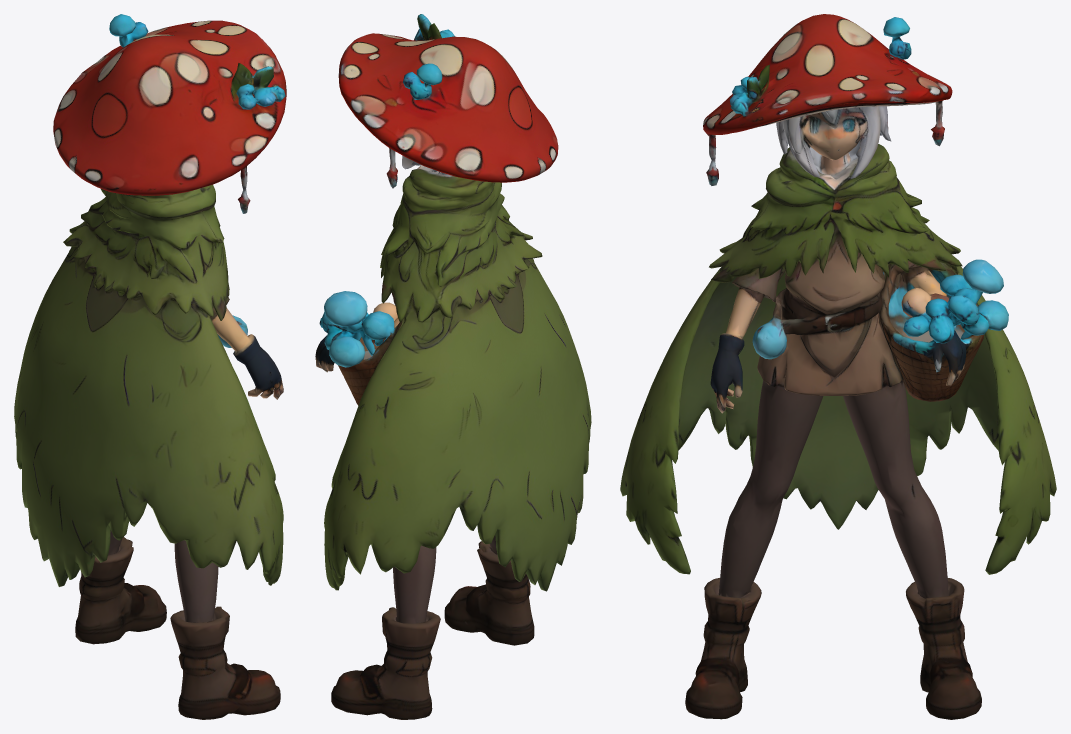
Rendered from r2_forager.b5e552d1.glb.
3 views of the same model, side by side, from view 1: azimuth 30°, elevation 25°; view 2: azimuth 150°, elevation 25°; view 3: azimuth 270°, elevation 25° (orthographic). The views are drawn at different scales.
Parts seen in each view (by area): view 1: tripo_node_6732b703-594c-4c27-bcc8-169f15532f5f; view 2: tripo_node_6732b703-594c-4c27-bcc8-169f15532f5f; view 3: tripo_node_6732b703-594c-4c27-bcc8-169f15532f5f.
Part boxes in pixels (box(x1,y1,x2,y2)): tripo_node_6732b703-594c-4c27-bcc8-169f15532f5f: box(14, 14, 286, 719); tripo_node_6732b703-594c-4c27-bcc8-169f15532f5f: box(315, 14, 591, 719); tripo_node_6732b703-594c-4c27-bcc8-169f15532f5f: box(620, 14, 1056, 719).
Size of the model in its own units: 0.3386 by 1 by 0.5917.
1 material, 1 textured.
